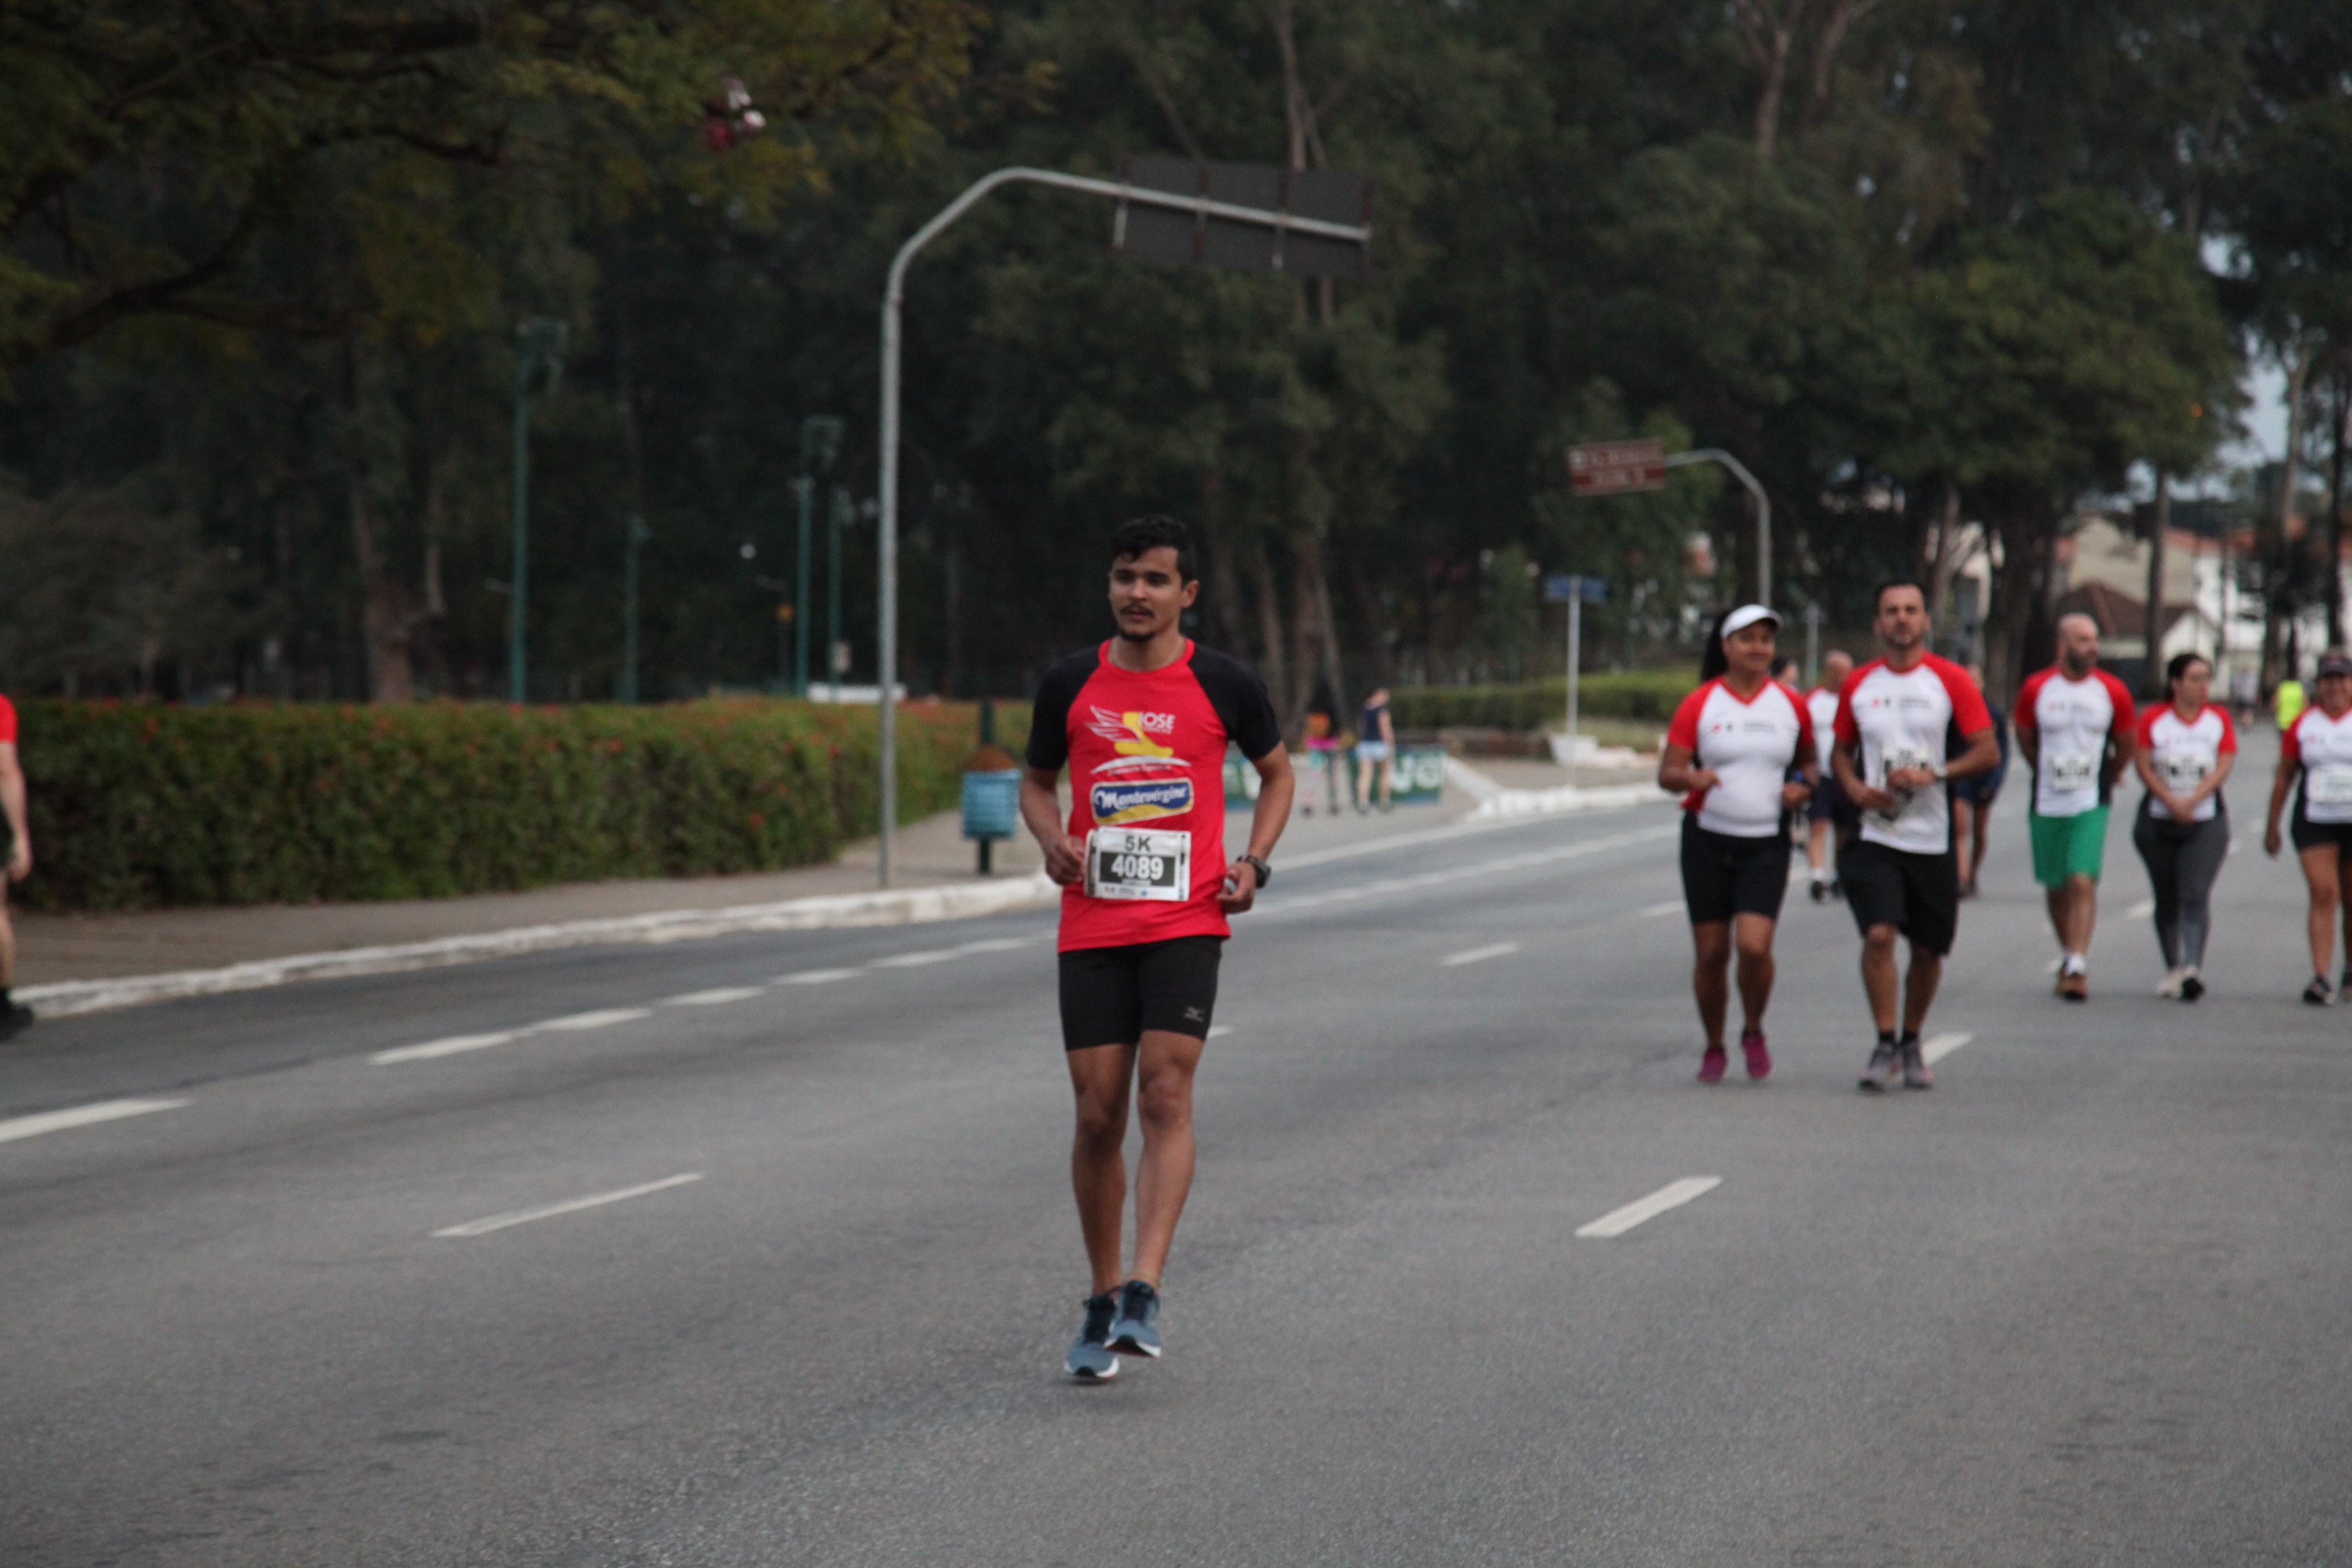bibtag: (1069, 828, 1204, 924), (2039, 745, 2096, 800)
